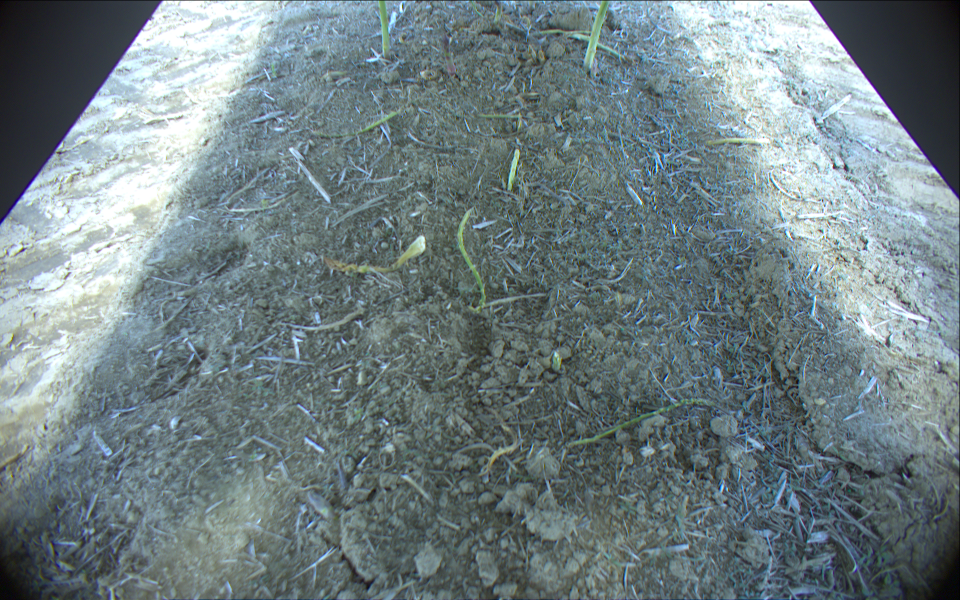aspa: (567, 397, 720, 447), (323, 234, 426, 274), (456, 207, 489, 313), (310, 109, 400, 137), (582, 1, 609, 69), (561, 34, 627, 59), (377, 1, 391, 58), (708, 135, 773, 147), (507, 147, 521, 190), (535, 29, 605, 36), (548, 351, 567, 375), (492, 1, 506, 23), (476, 113, 524, 119), (469, 1, 483, 17)
